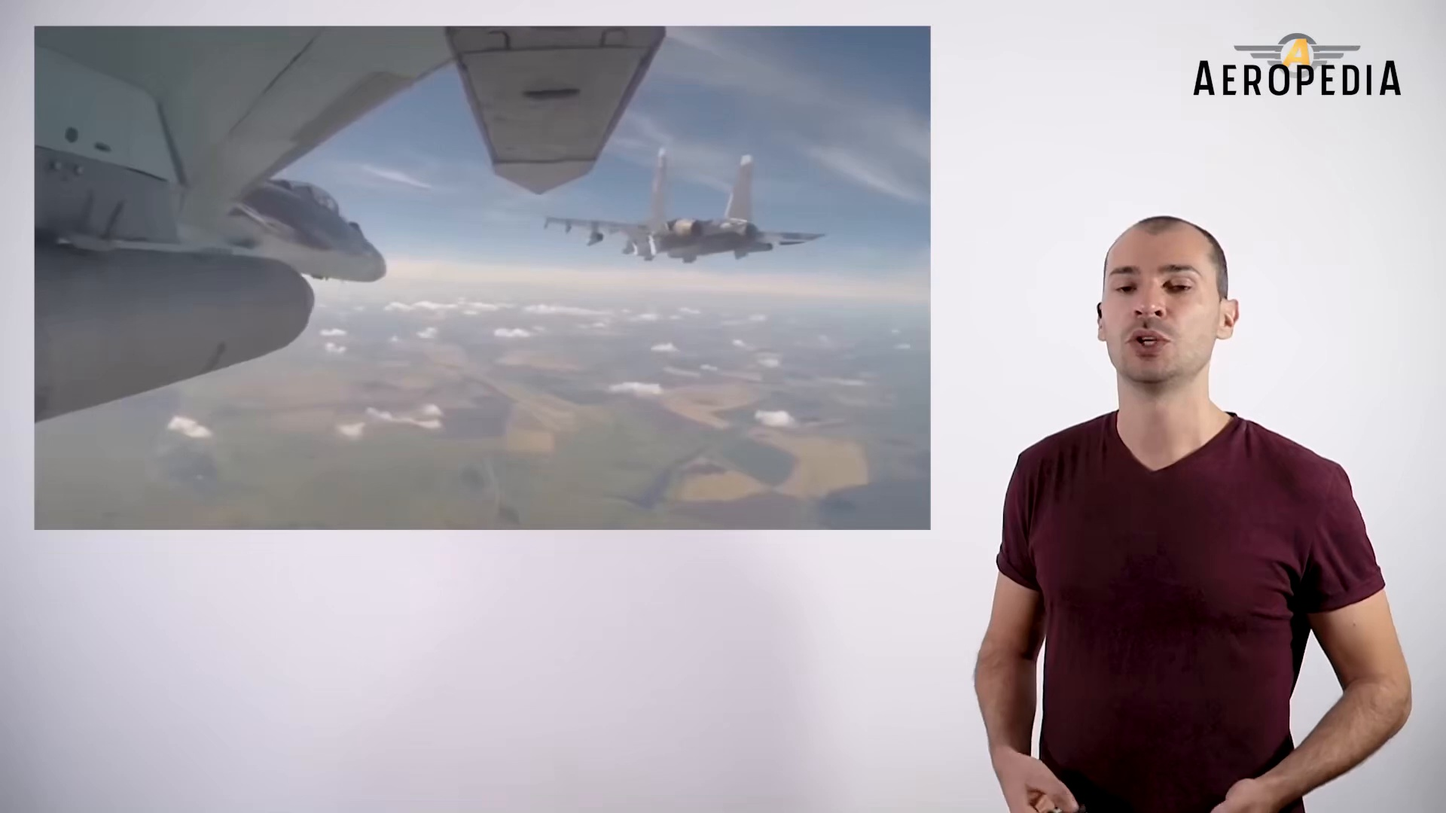Su35: (543, 145, 828, 262)
